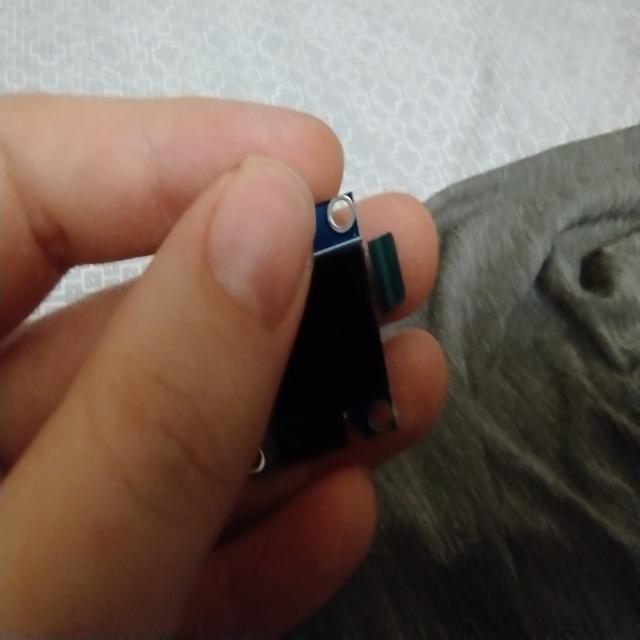oled: (196, 187, 409, 489)
